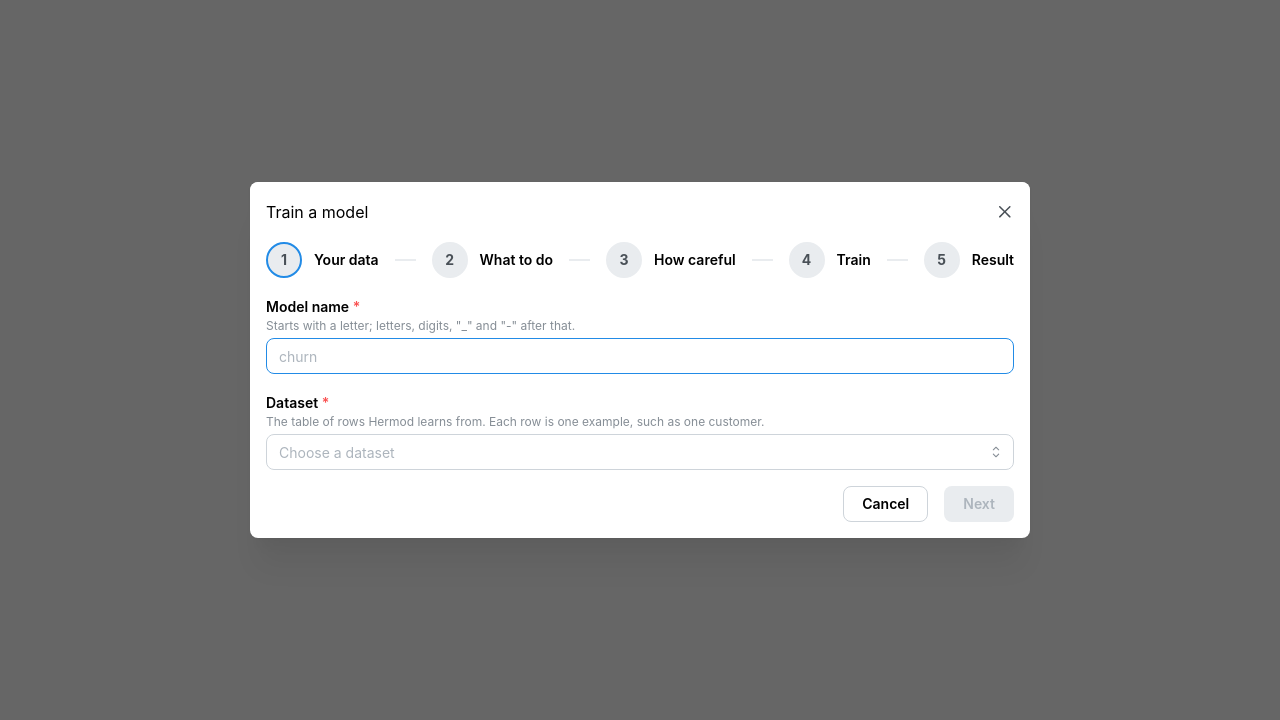
Test: the checklist in the train flow › a visit plan without a customers table is red at "What data you need"
In the field labelled "Model name *": (640, 356) [266,338,1014,374], type "m1"
Click the dropdown labelled "Dataset *": click(640, 452) [266,434,1014,470]
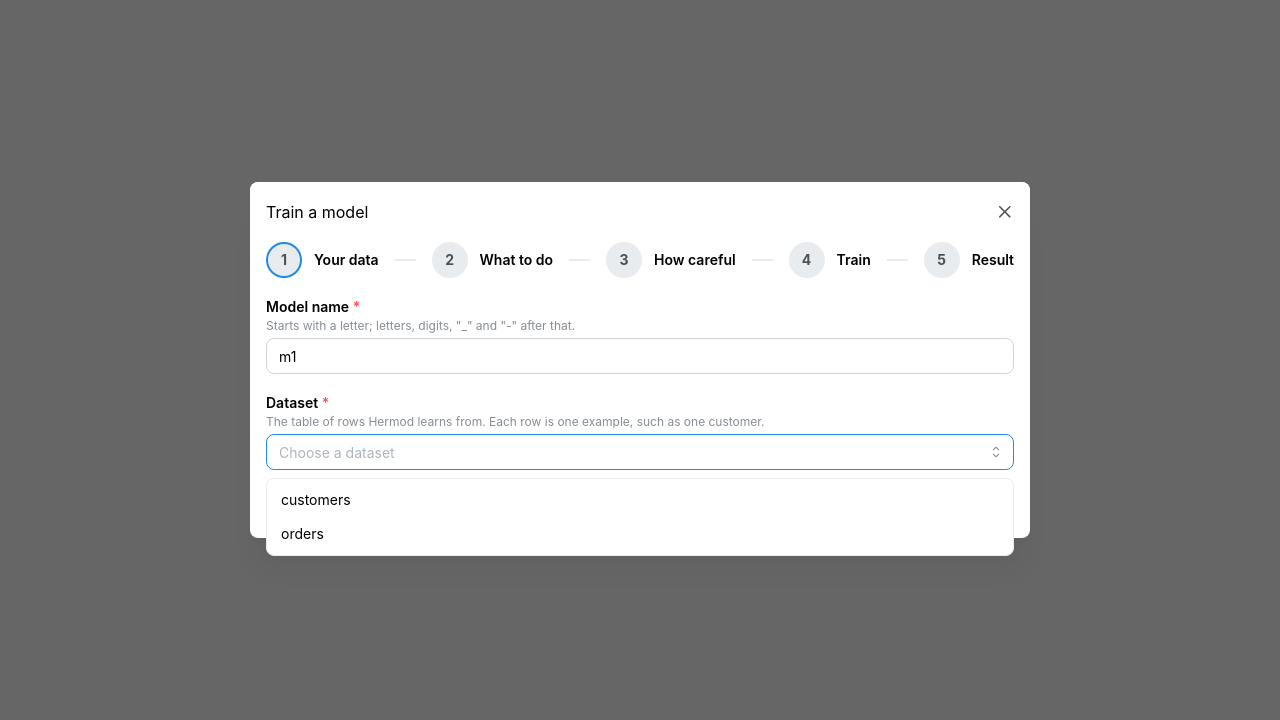
Click the option "orders": click(302, 533) [281,525,324,542]
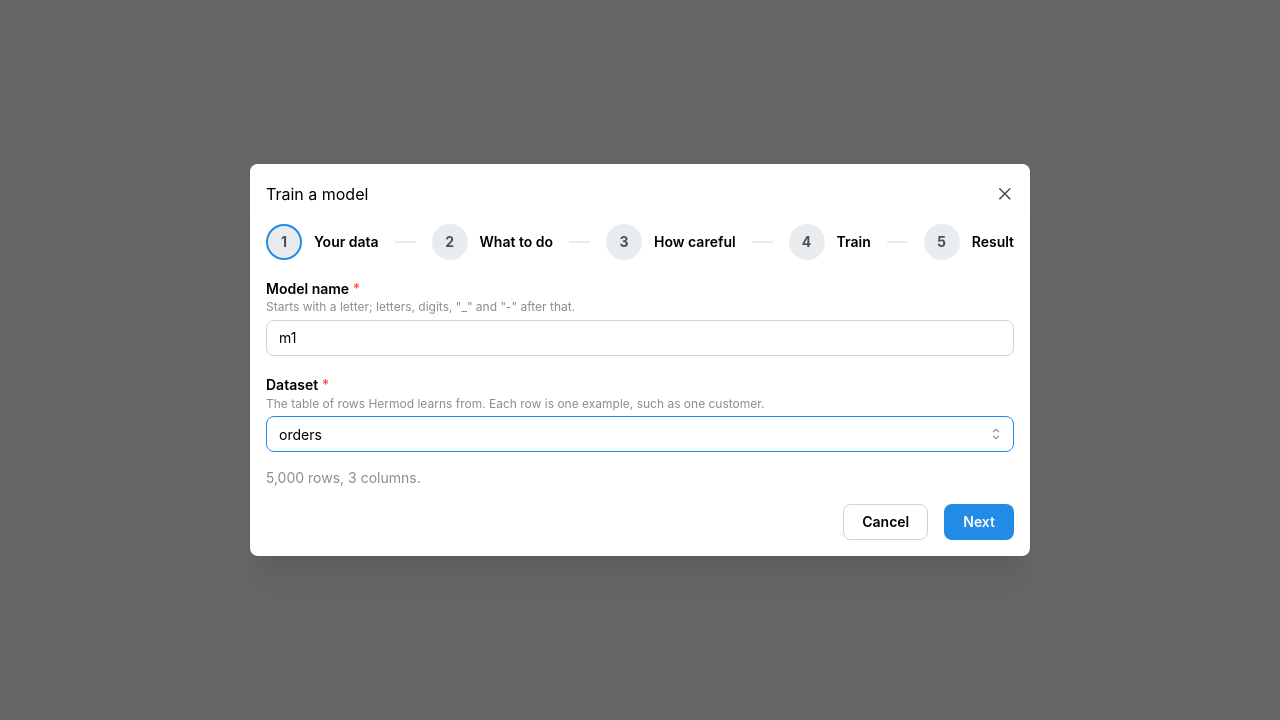
Click the button "Next": click(979, 522) [944,504,1014,540]
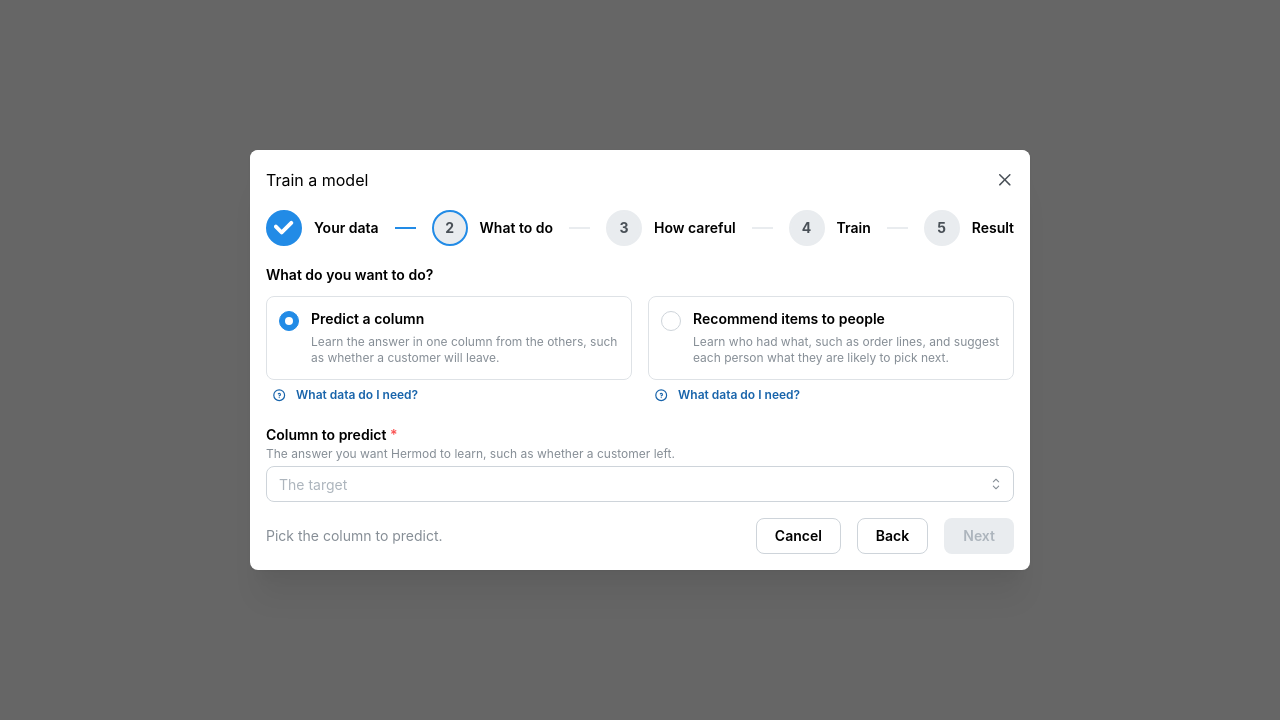
Click the radio button labelled "Recommend items to people": click(831, 338) [648,296,1014,380]
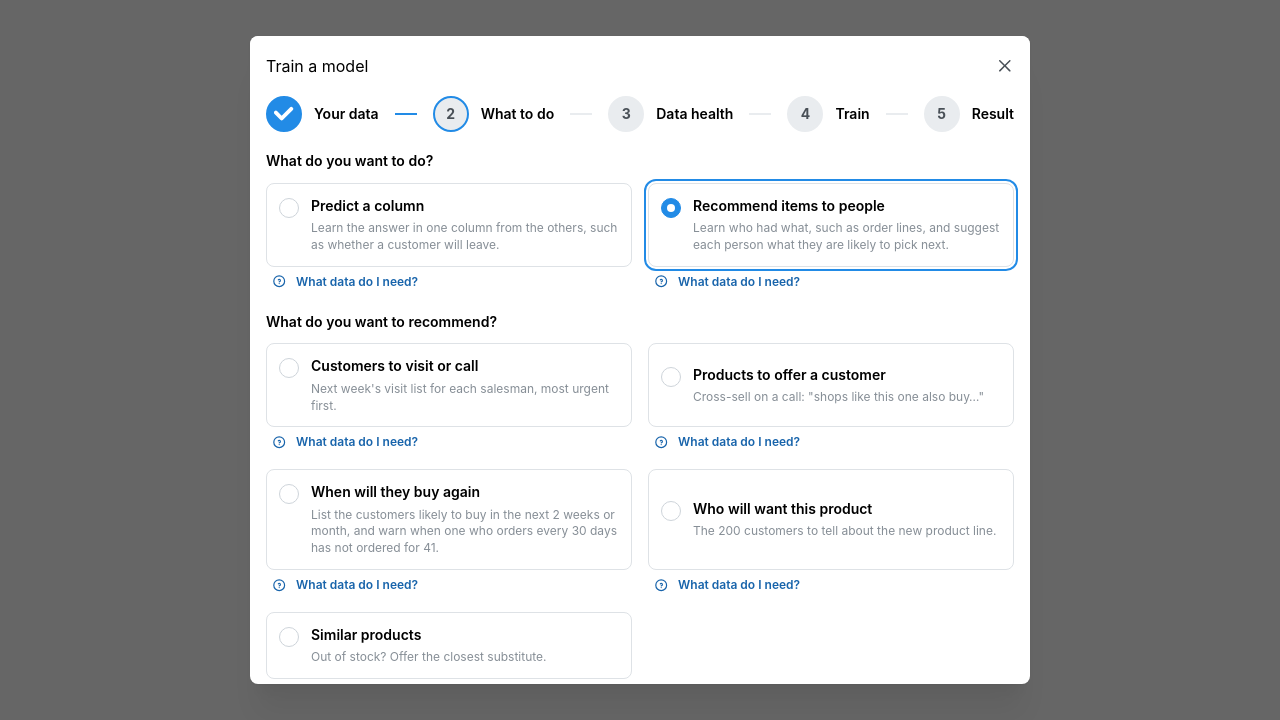
Click the radio button labelled "Customers to visit or call": click(449, 385) [266,344,632,427]
(page scrolled)
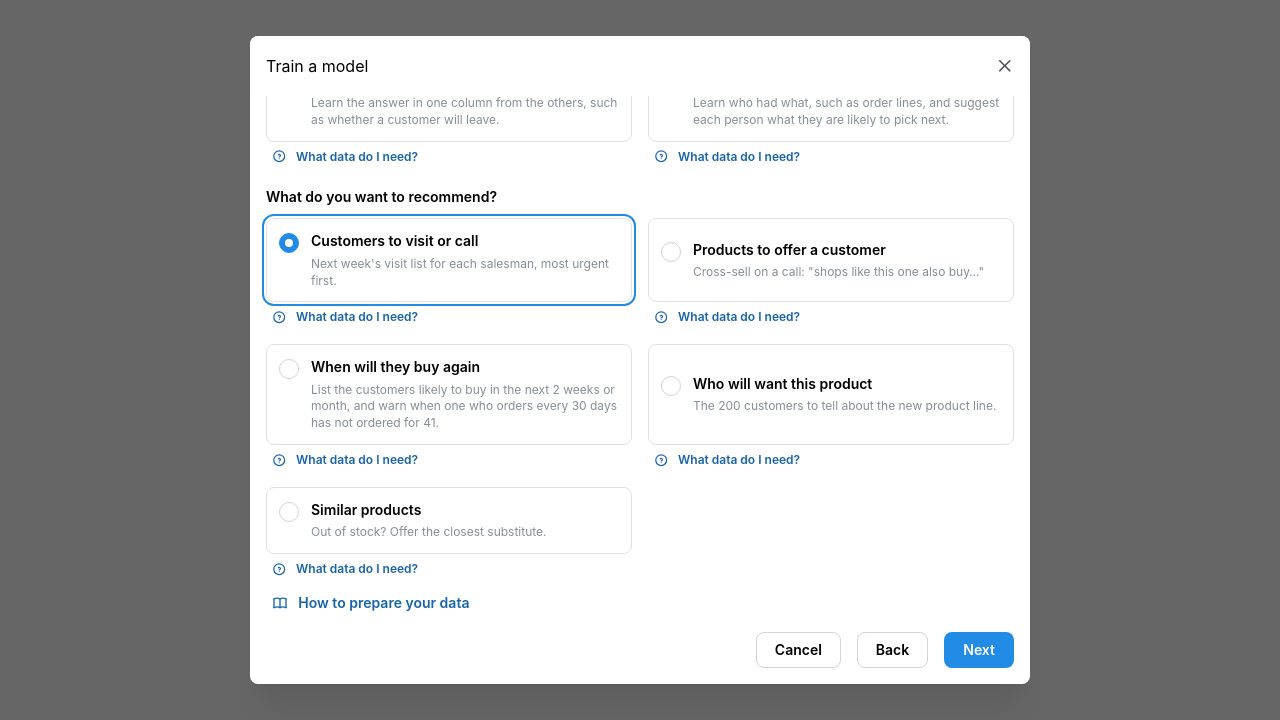
Click the button "Next": click(979, 650) [944,632,1014,668]
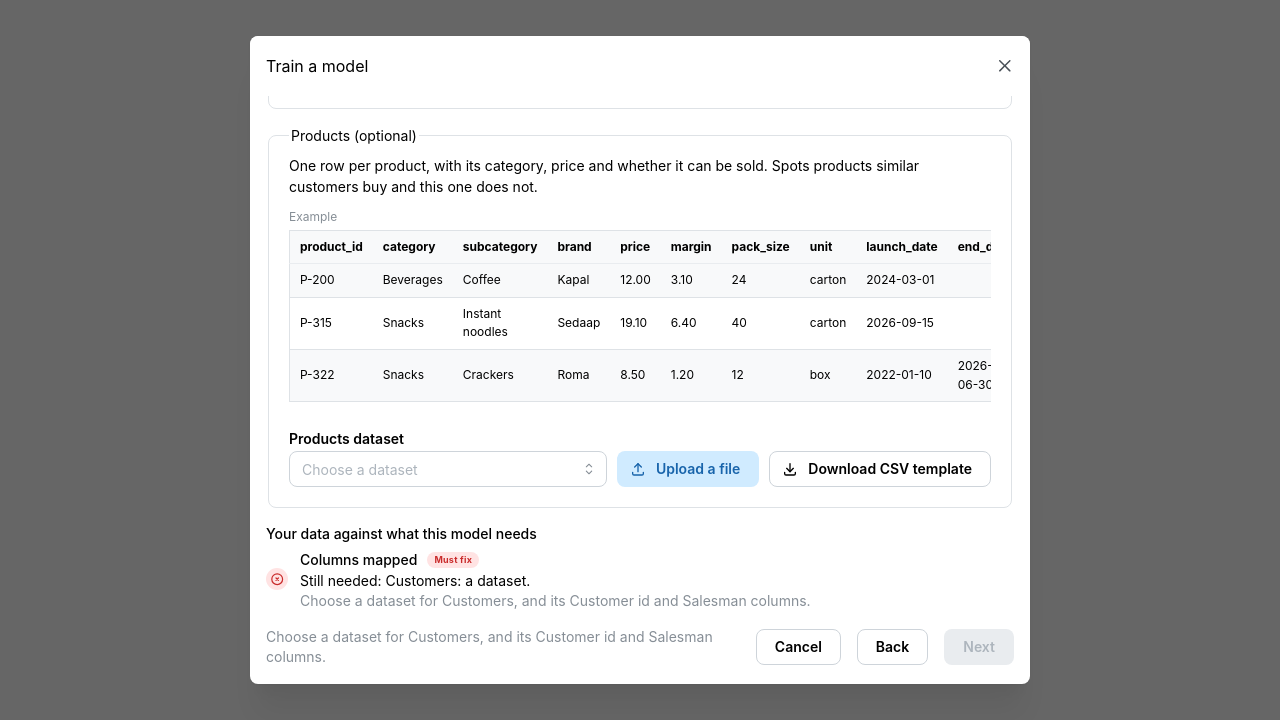
Result: the button "Next" is disabled at [944,630,1014,666]
